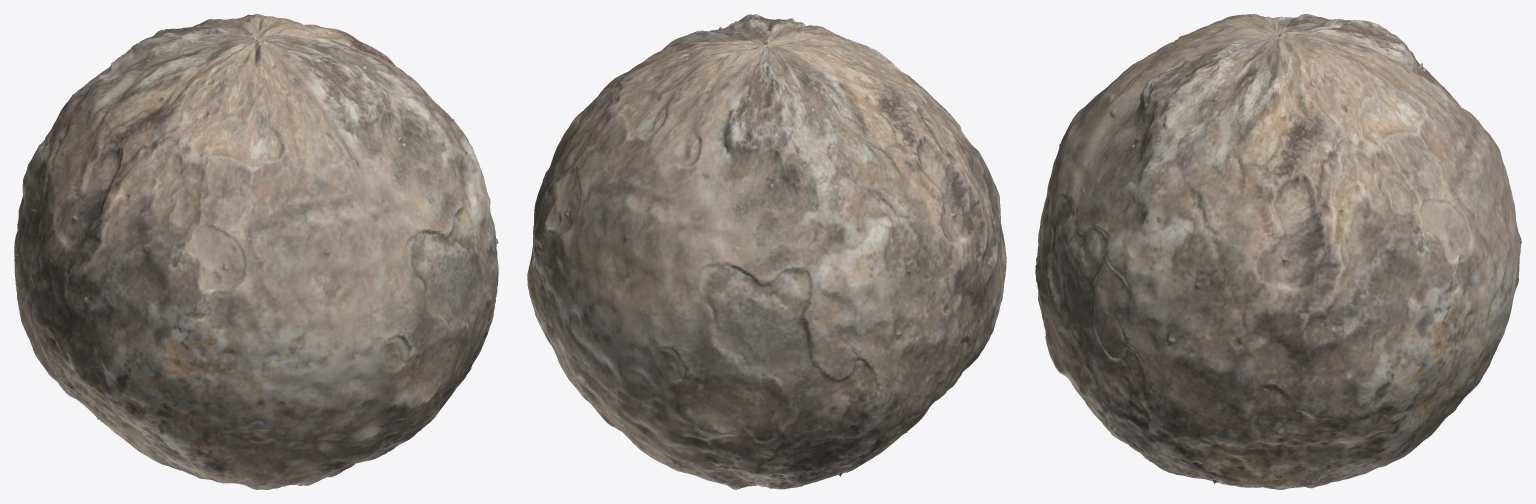
Rendered from rock_boulder_dry.glb.
The picture shows the model from 3 angles, left to right: view 1: azimuth 30°, elevation 25°; view 2: azimuth 150°, elevation 25°; view 3: azimuth 270°, elevation 25°; orthographic projection. The views are drawn at different scales.
Parts seen in each view (by area): view 1: sphere_gltf; view 2: sphere_gltf; view 3: sphere_gltf.
Part boxes in pixels (<box>): sphere_gltf: <box>14,14,498,489</box>; sphere_gltf: <box>527,14,1006,489</box>; sphere_gltf: <box>1035,14,1521,489</box>.
Size of the model in its own units: 1.83 by 1.82 by 1.83.
1 material, 1 textured.
